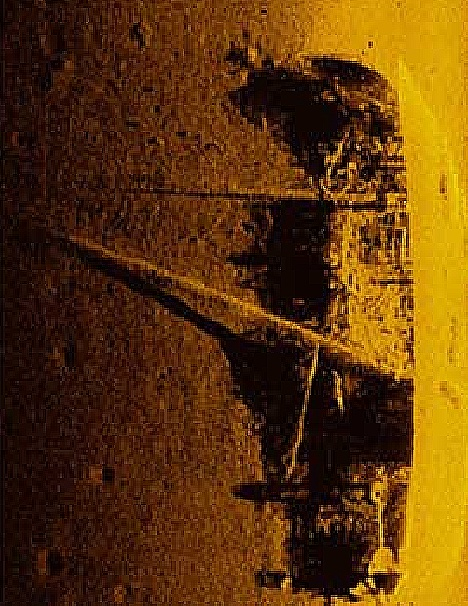ship: (50, 46, 418, 602)
